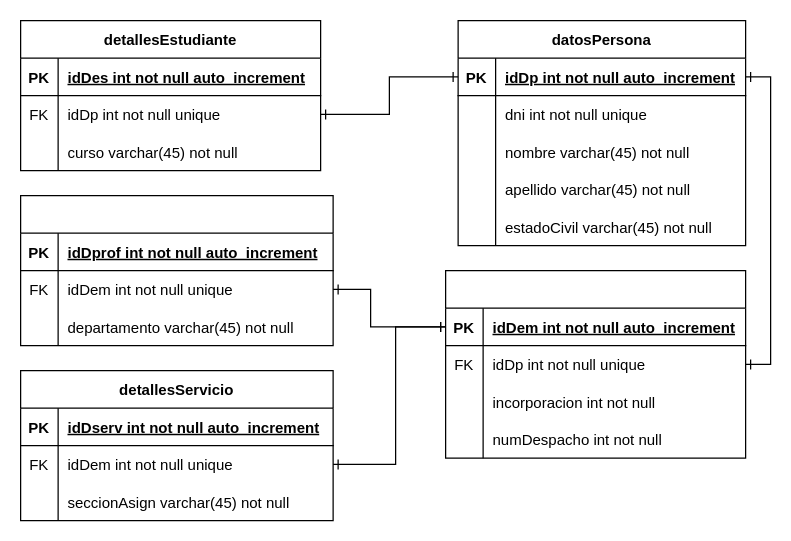
This 791x541 diagram has some shape labels left out. Each missing label, with the box of its shape:
detallesEmpleado: (444, 269, 746, 458)
detallesProfesor: (19, 194, 333, 346)
